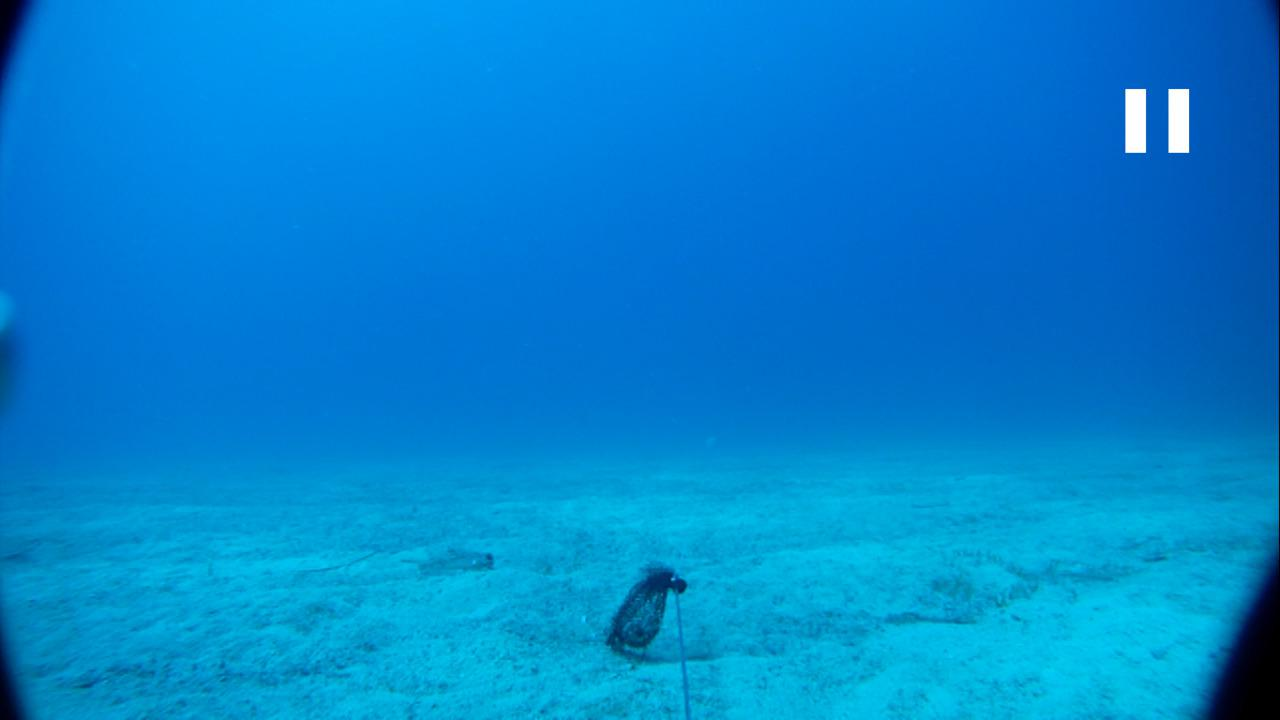dactylopterus: (384, 538, 504, 582)
